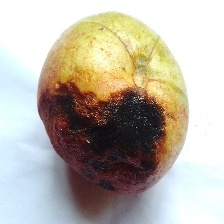guava: (38, 26, 224, 187)
